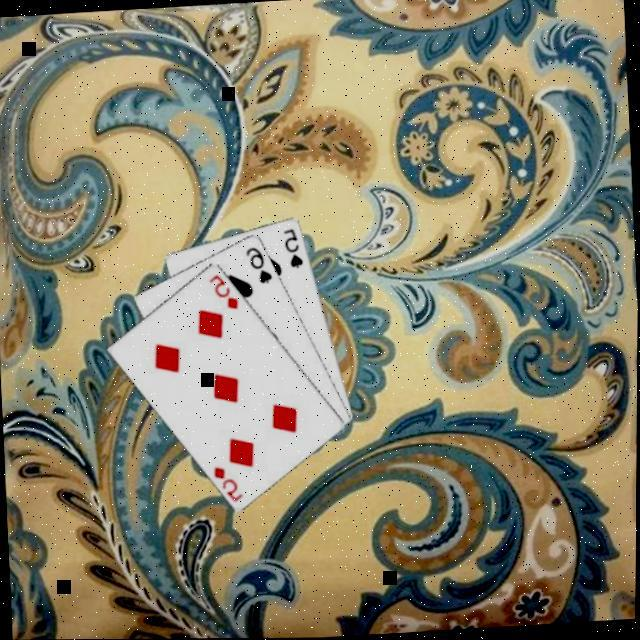5D: (212, 459, 248, 504), (207, 268, 243, 312)
5S: (282, 223, 308, 270)
6S: (243, 241, 276, 286)
